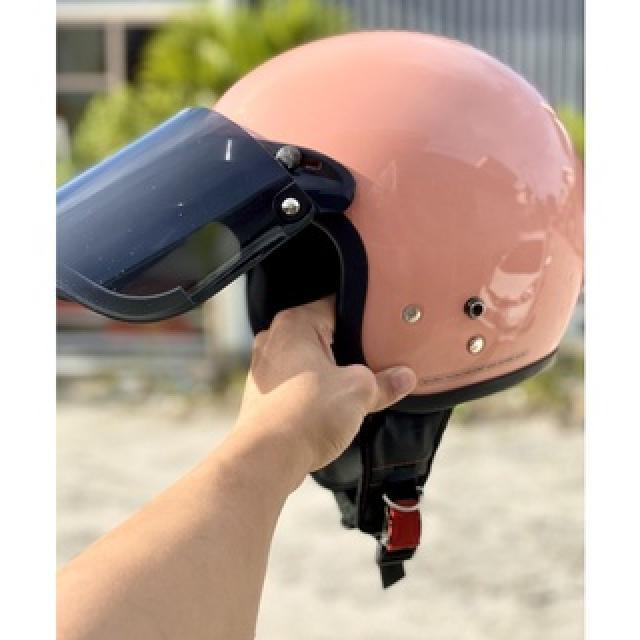Helm: (52, 27, 588, 591)
